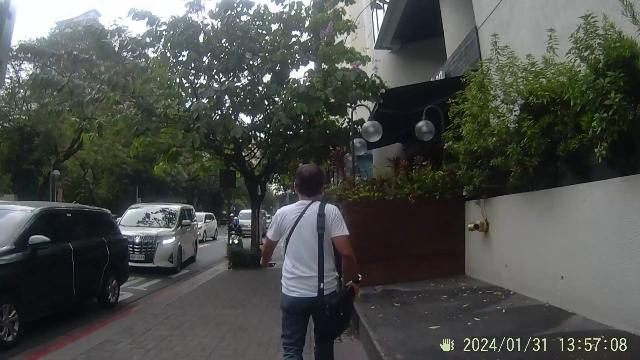street_sign: (218, 166, 238, 246)
tree: (242, 166, 272, 258)
